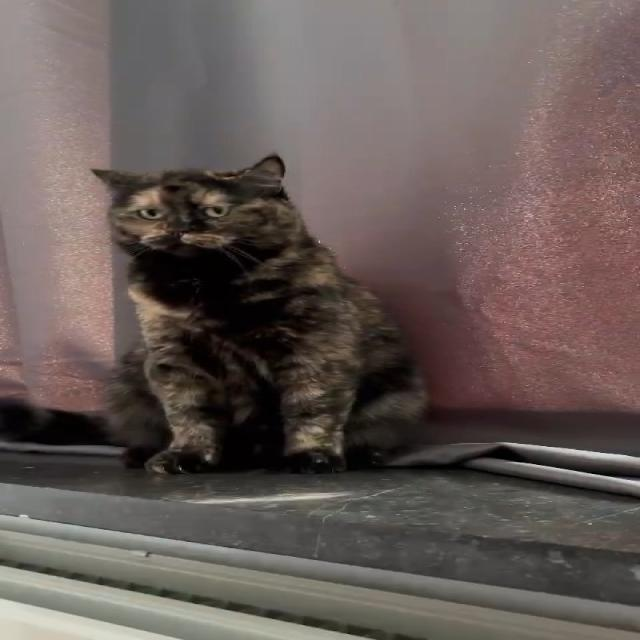authorized: (88, 152, 431, 476)
